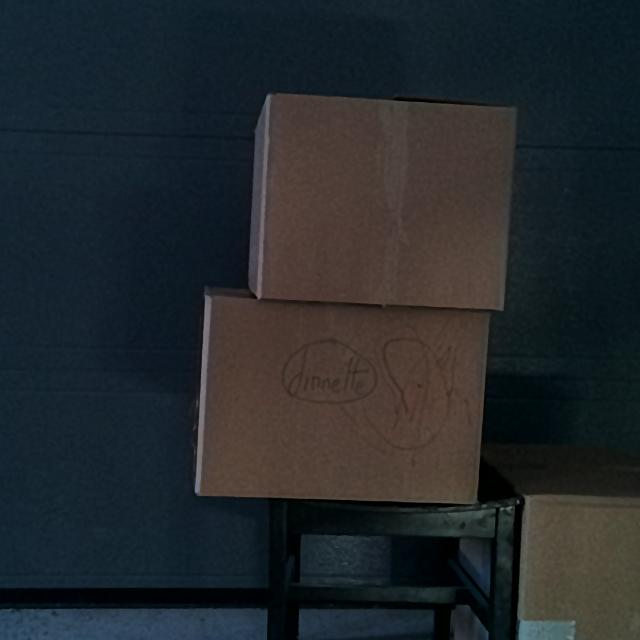box: (200, 292, 487, 501), (261, 105, 514, 302), (524, 492, 640, 640)
